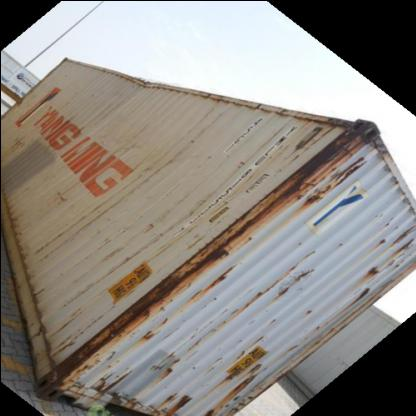Damage: (281, 115, 378, 223), (150, 237, 228, 331), (57, 318, 138, 396), (350, 258, 388, 312), (386, 206, 414, 260), (46, 178, 88, 210)
